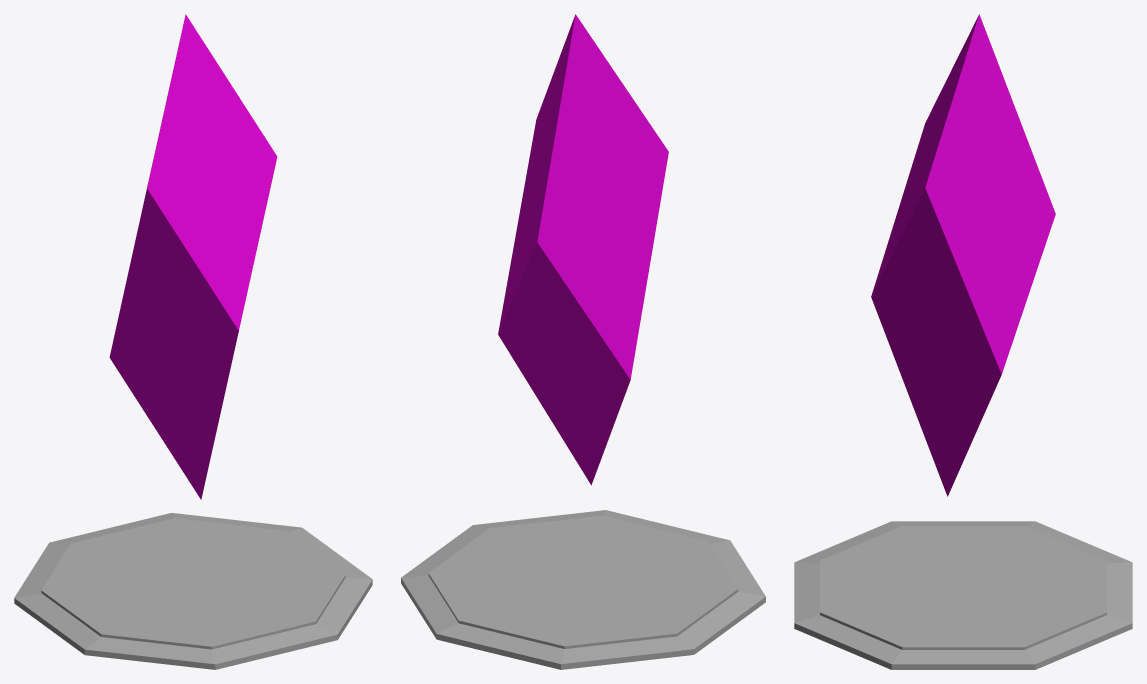
Rendered from Core.fbx.
The picture shows the model from 3 angles, left to right: view 1: azimuth 30°, elevation 25°; view 2: azimuth 150°, elevation 25°; view 3: azimuth 270°, elevation 25°; orthographic projection.
Visible parts, largest first — view 1: Core_Crystal, Core_Pad; view 2: Core_Crystal, Core_Pad; view 3: Core_Crystal, Core_Pad.
Boxes of the visible parts, left/top/right/bottom form: Core_Crystal: left=109, top=14, right=277, bottom=499; Core_Pad: left=14, top=513, right=372, bottom=669; Core_Crystal: left=498, top=14, right=668, bottom=485; Core_Pad: left=401, top=510, right=765, bottom=669; Core_Crystal: left=871, top=14, right=1055, bottom=496; Core_Pad: left=794, top=521, right=1132, bottom=669.
Bounding box in the file's own units: 217 × 414 × 217.
